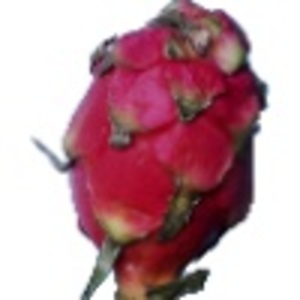pitaia: (33, 1, 272, 300)
